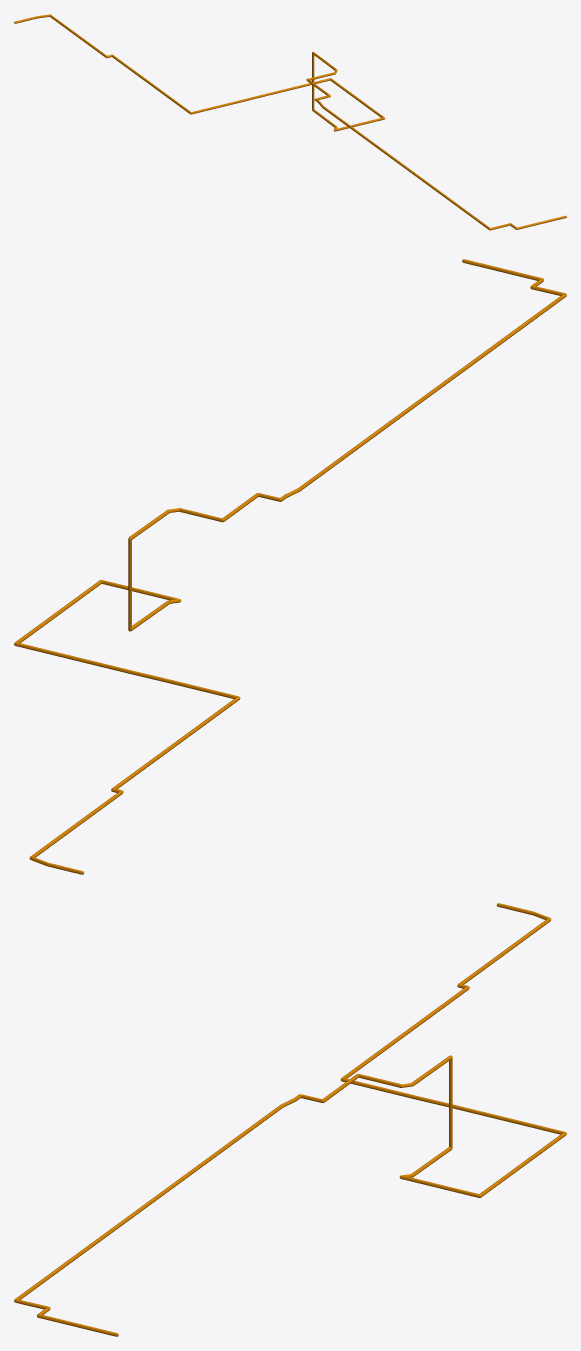
The picture shows the model from 3 angles, top to bottom: view 1: azimuth 30°, elevation 25°; view 2: azimuth 150°, elevation 25°; view 3: azimuth 330°, elevation 25°; orthographic projection. The views are drawn at different scales.
Bounding box in the file's own units: 1656 × 520 × 6291.
